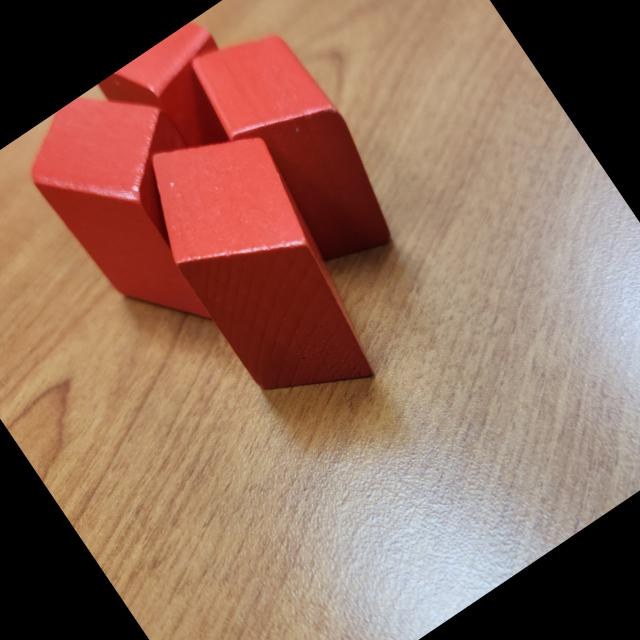red: (115, 98, 408, 436), (9, 64, 275, 360), (168, 2, 418, 291), (94, 16, 264, 185)
